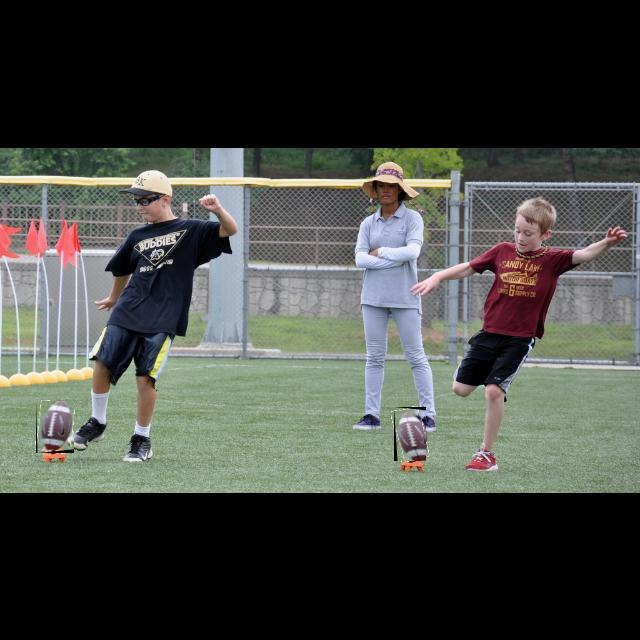Football: (36, 401, 74, 453), (394, 407, 426, 461)
